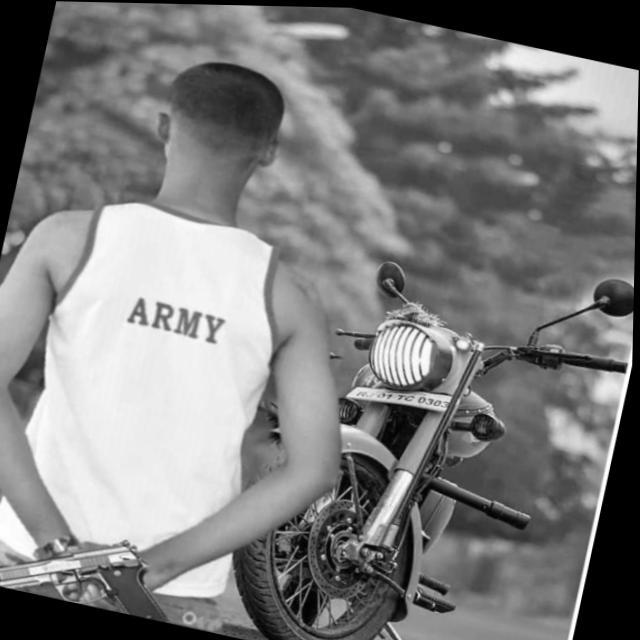weapon: (0, 502, 201, 625)
